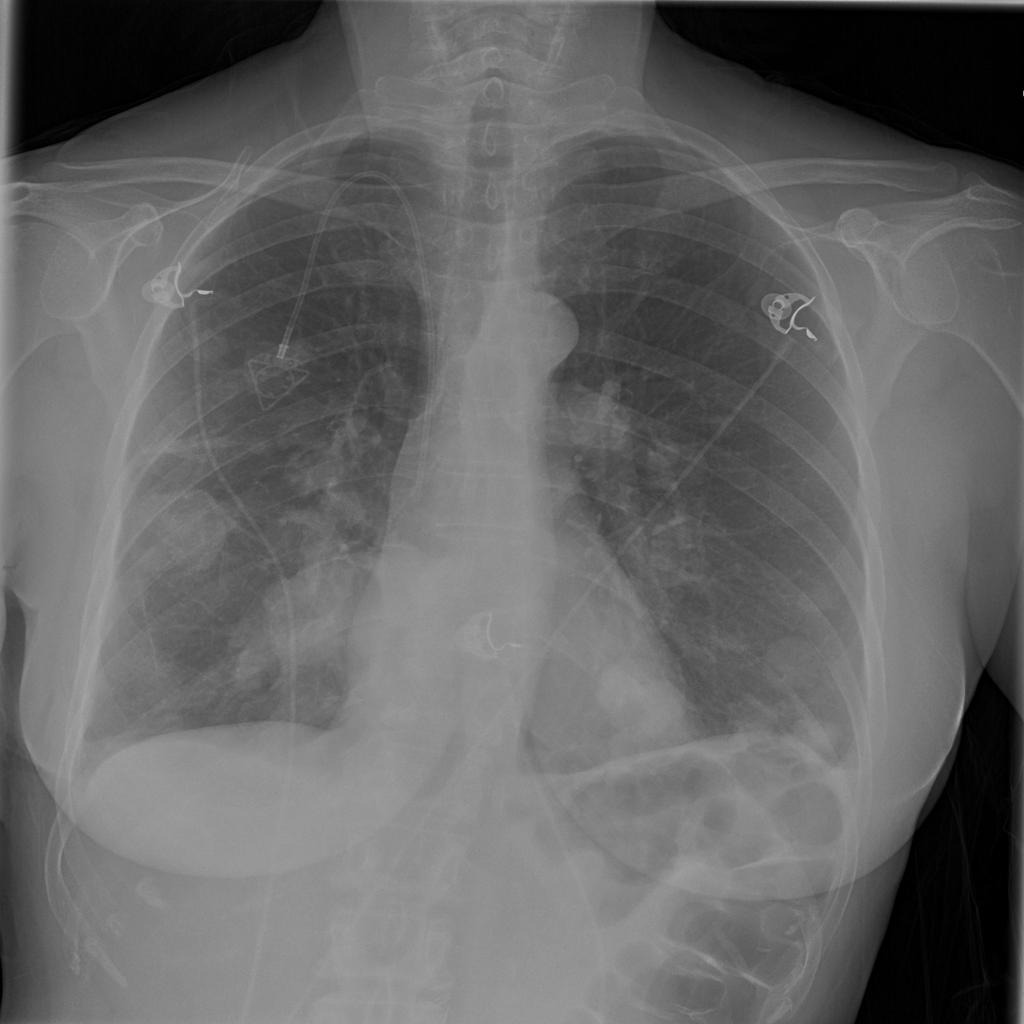nodule: (231, 502, 391, 707), (574, 643, 707, 768), (123, 476, 245, 580), (754, 626, 831, 699), (771, 699, 854, 766), (779, 564, 855, 625)
